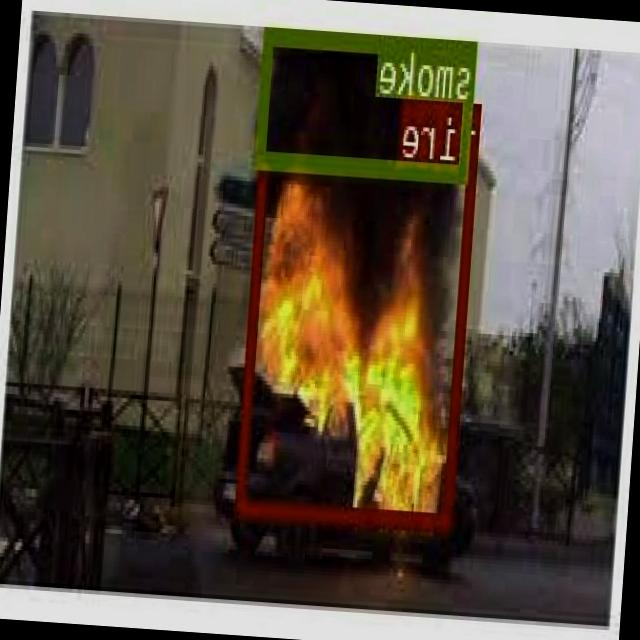fire: (238, 148, 478, 529)
smoke: (257, 23, 478, 180)
